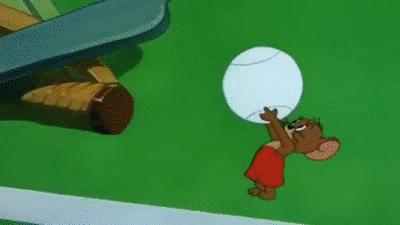jerry: (243, 105, 341, 200)
